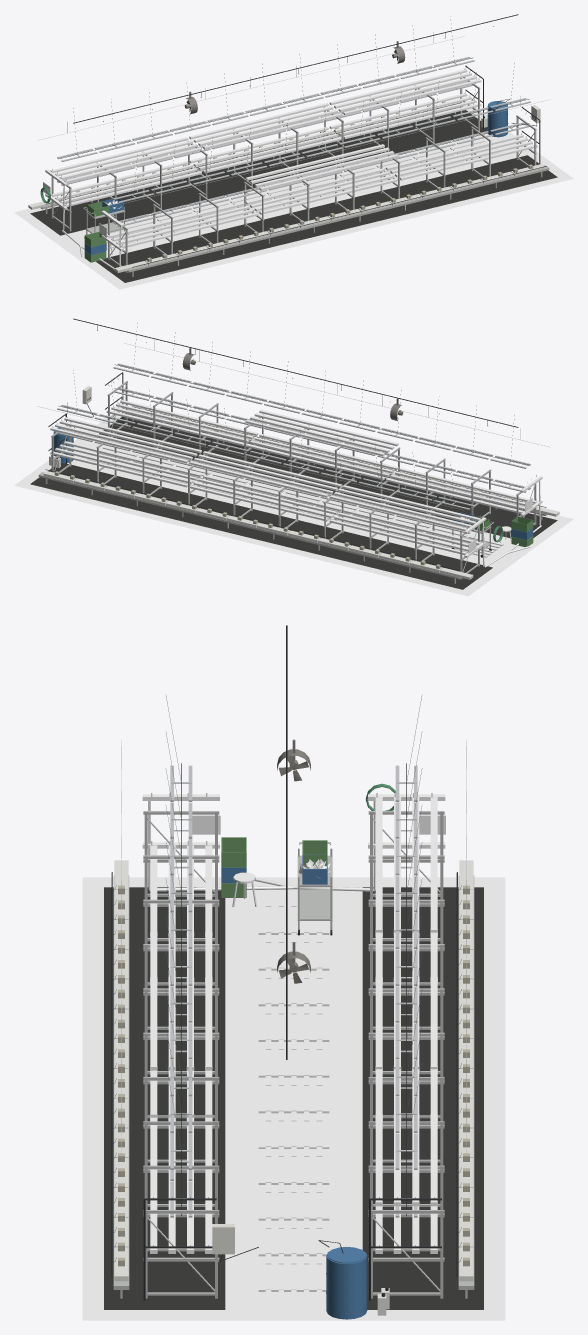
The model's file is HY_Fitout_A_LOD0.glb.
The picture shows the model from 3 angles, top to bottom: view 1: azimuth 30°, elevation 25°; view 2: azimuth 150°, elevation 25°; view 3: azimuth 270°, elevation 25°; orthographic projection. The views are drawn at different scales.
Visible parts, largest first — view 1: HY_Fitout_A_LOD0; view 2: HY_Fitout_A_LOD0; view 3: HY_Fitout_A_LOD0.
Boxes of the visible parts, left/top/right/bottom form: HY_Fitout_A_LOD0: left=14, top=14, right=573, bottom=289; HY_Fitout_A_LOD0: left=14, top=318, right=573, bottom=596; HY_Fitout_A_LOD0: left=82, top=625, right=505, bottom=1320.
Size of the model in its own units: 14.92 by 4.05 by 6.
